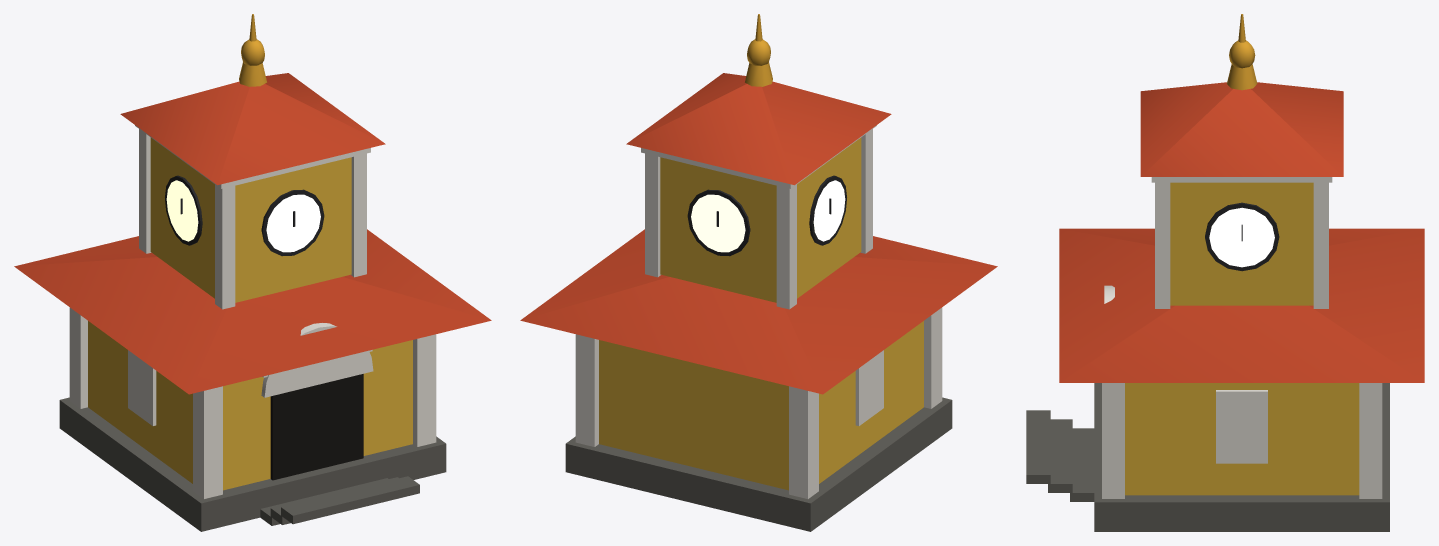
Rendered from ben_thanh_clock_tower.glb.
3 views of the same model, side by side, from view 1: azimuth 30°, elevation 25°; view 2: azimuth 150°, elevation 25°; view 3: azimuth 270°, elevation 25° (orthographic). The views are drawn at different scales.
Parts seen in each view (by area): view 1: BenThanhClockTower; view 2: BenThanhClockTower; view 3: BenThanhClockTower.
Boxes of the visible parts, x1,y1,x2,y2 form: BenThanhClockTower: (14, 14, 491, 531); BenThanhClockTower: (520, 14, 997, 531); BenThanhClockTower: (1026, 14, 1424, 531).
Size of the model in its own units: 6.68 by 9.17 by 7.28.
